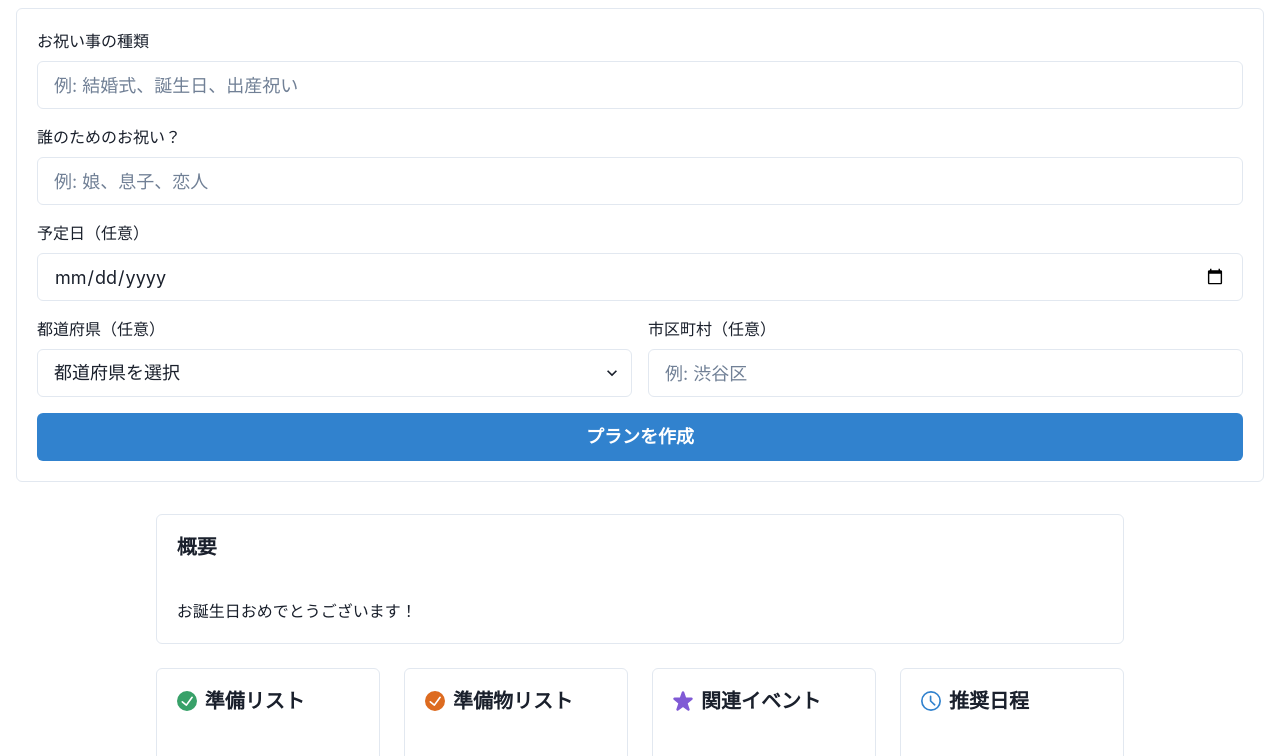
Scenario: 関連イベントの詳細 › 都道府県・市名が入っていれば周辺のお店を検索ボタンが表示されること
Note: 各フィールドに順番に入力
Type "誕生日" into the field with placeholder "例: 結婚式、誕生日、出産祝い" at (640, 85), box x1=37 y1=61 x2=1243 y2=109
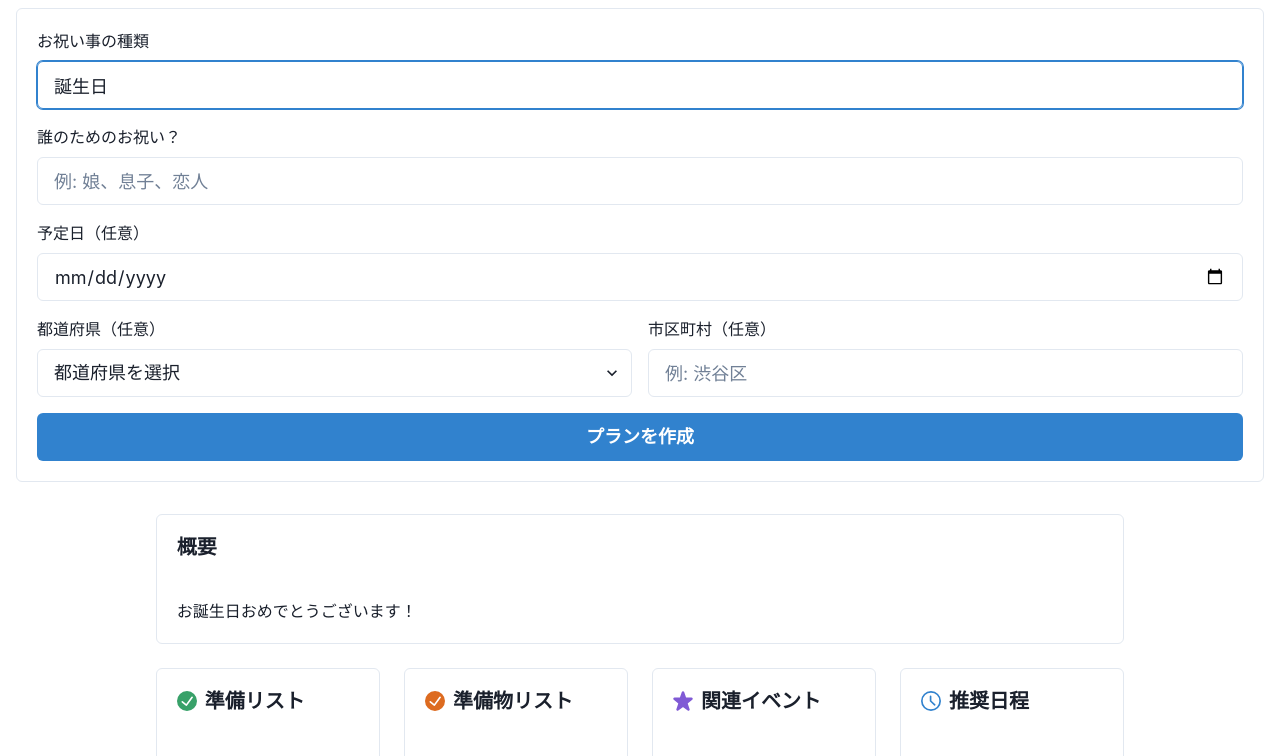
Type "娘" into the field with placeholder "例: 娘、息子、恋人" at (640, 181), box x1=37 y1=157 x2=1243 y2=205
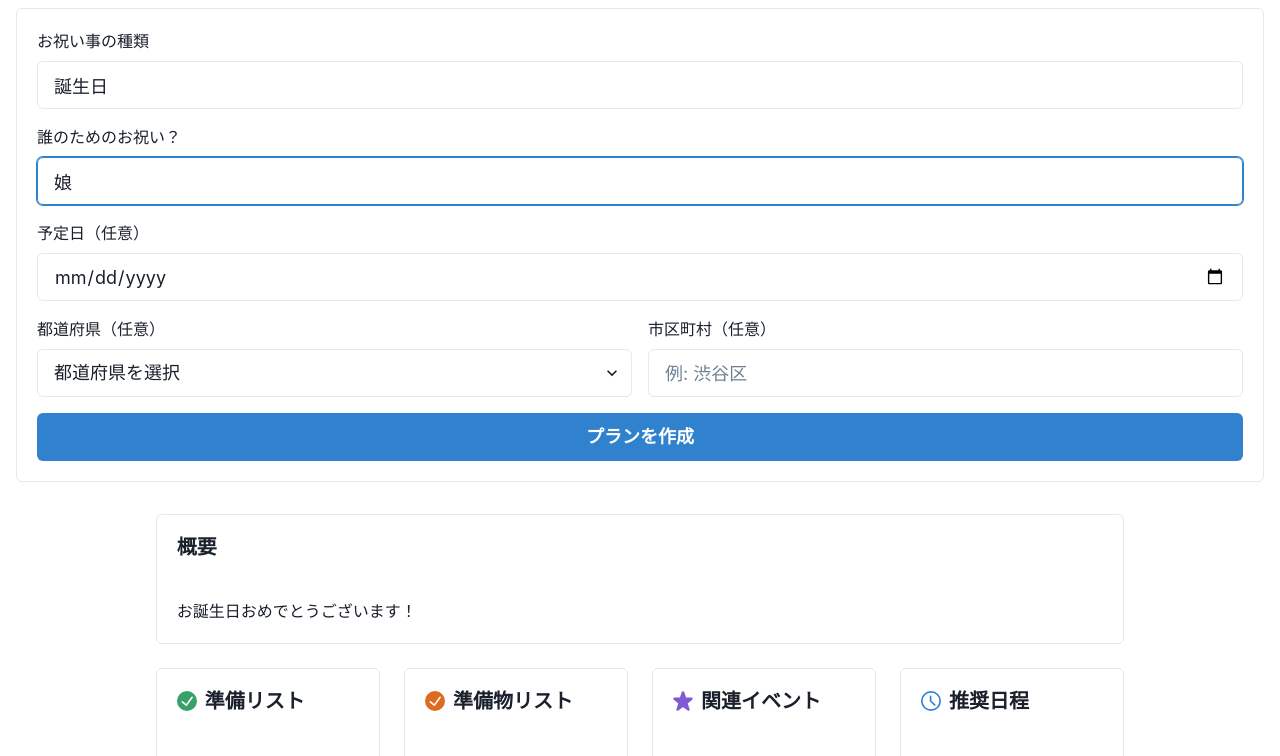
Select "東京都" in the dropdown with test id "prefecture" at (334, 373), box x1=37 y1=349 x2=632 y2=397
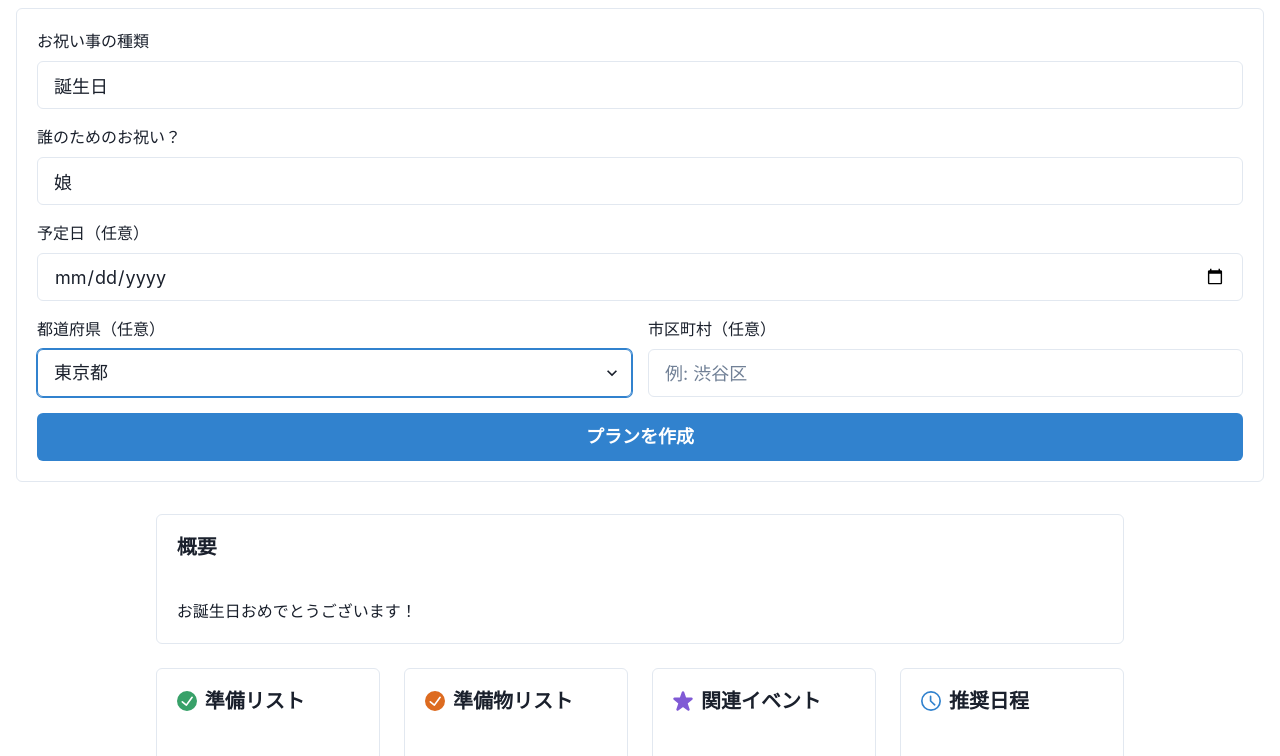
Type "渋谷区" into the field with test id "city" at (946, 373), box x1=648 y1=349 x2=1243 y2=397
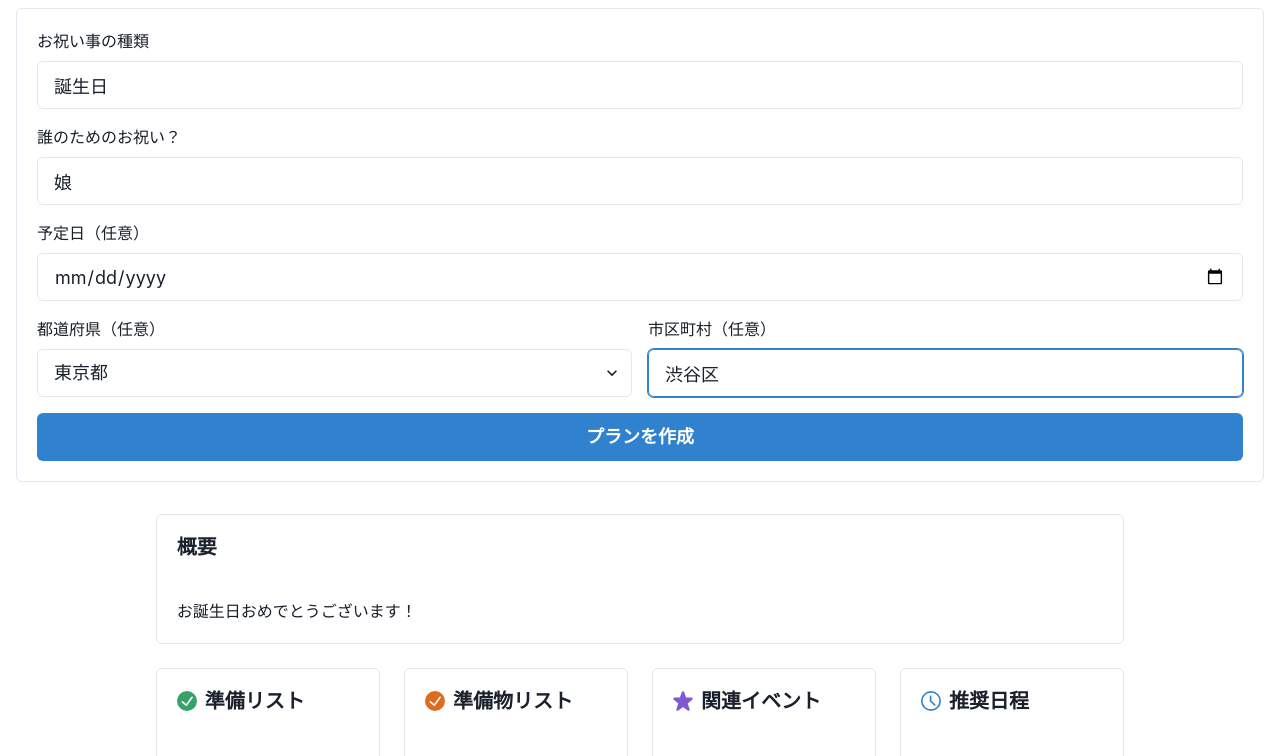
Note: プラン作成ボタンをクリック
Click the button "プランを作成" at (640, 437), box x1=37 y1=413 x2=1243 y2=461
(page scrolled)
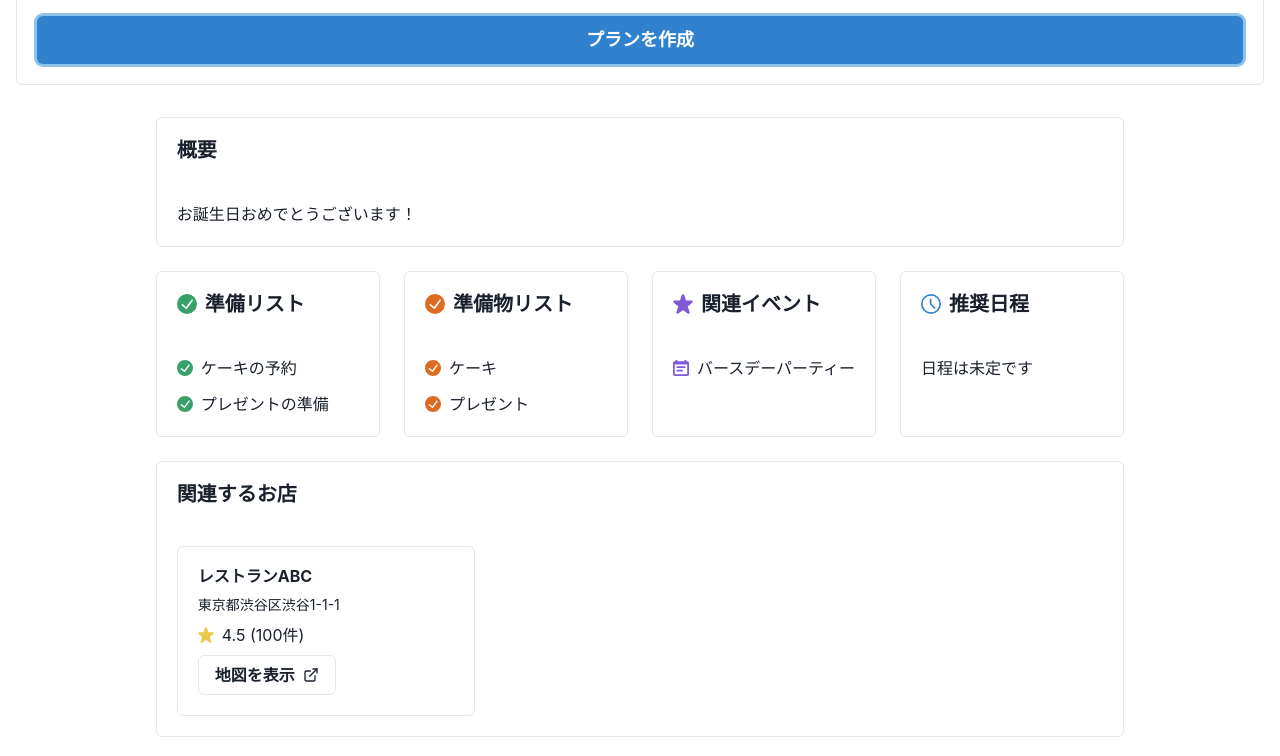
Note: イベントをクリック
Click the text "バースデーパーティー" at (776, 368), box x1=697 y1=356 x2=855 y2=380
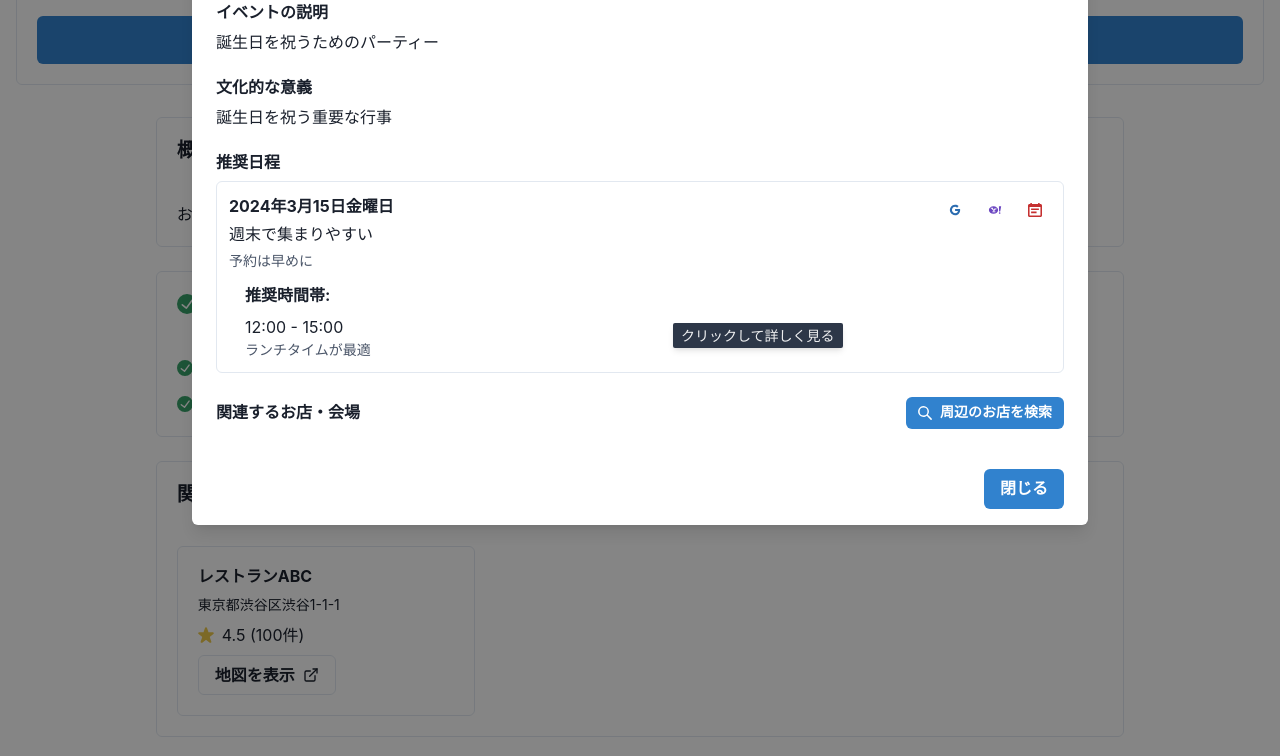
Result: the button "周辺のお店を検索" is shown at x1=906 y1=397 x2=1064 y2=429
